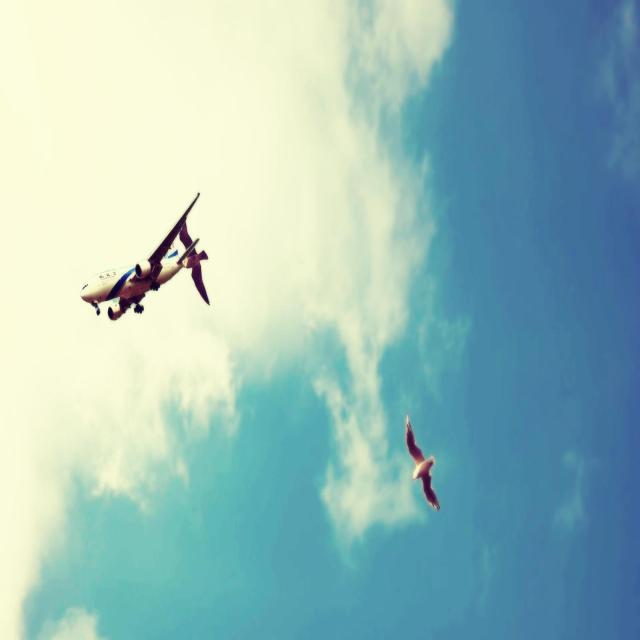airplane: (80, 190, 210, 320)
